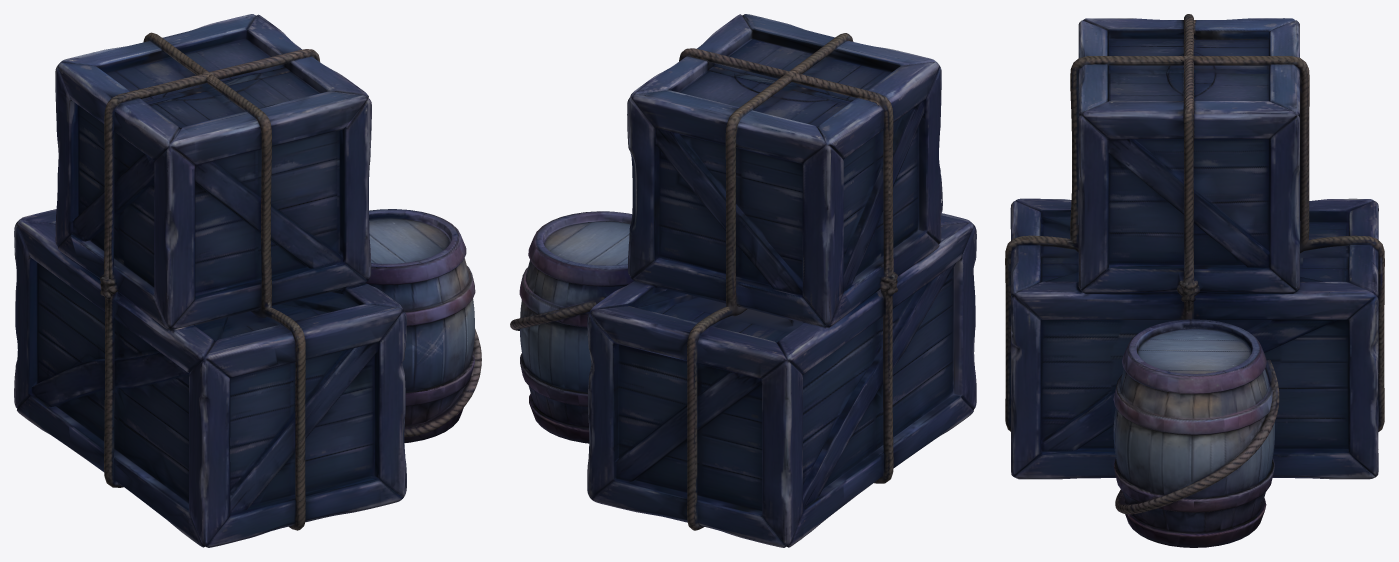
File: crates.glb
3 views of the same model, side by side, from view 1: azimuth 30°, elevation 25°; view 2: azimuth 150°, elevation 25°; view 3: azimuth 270°, elevation 25° (orthographic). The views are drawn at different scales.
Visible parts, largest first — view 1: node_0; view 2: node_0; view 3: node_0.
Part boxes in pixels (x1,y1,x2,y2): node_0: (14,14,481,547); node_0: (510,14,976,547); node_0: (1005,14,1384,547).
Size of the model in its own units: 0.7534 by 0.7566 by 0.6859.
1 material, 1 textured.
